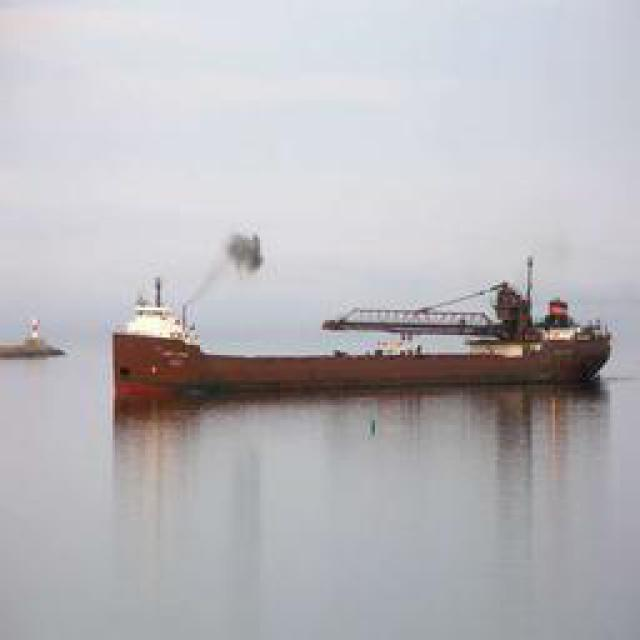Ship: (101, 263, 631, 411)
